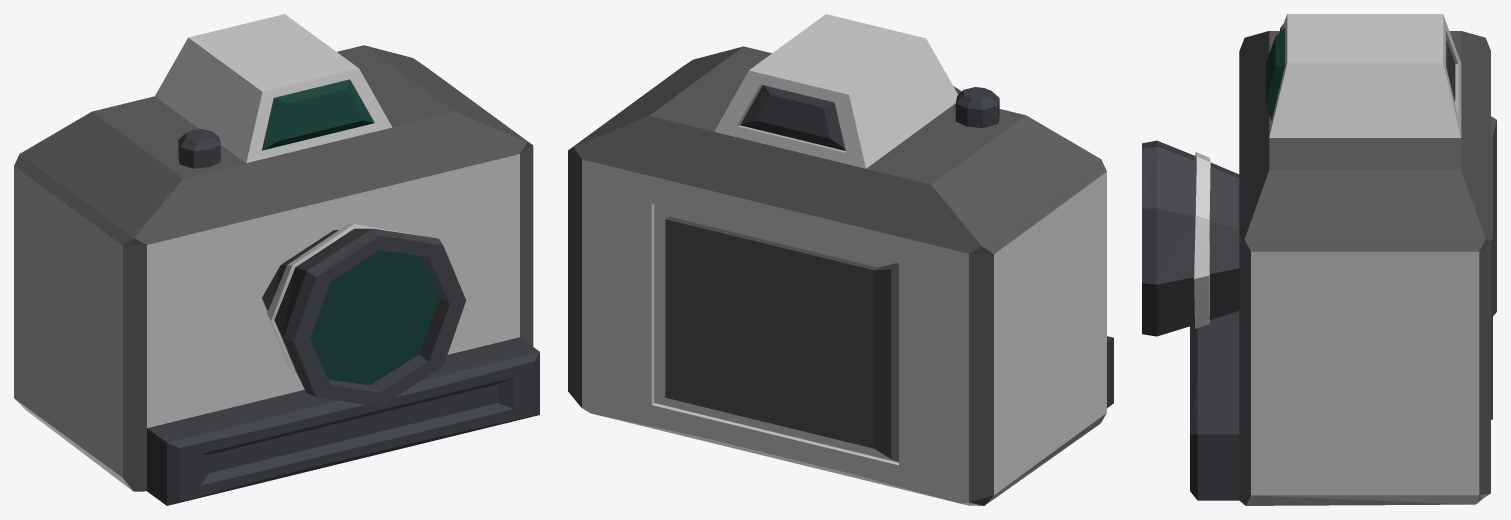
File: Camera Colores.fbx
3 renders of one model, left to right at view 1: azimuth 30°, elevation 25°; view 2: azimuth 150°, elevation 25°; view 3: azimuth 270°, elevation 25°, orthographic. The views are drawn at different scales.
Parts seen in each view (by area): view 1: Box001; view 2: Box001; view 3: Box001.
Boxes of the visible parts, box(x1,y1,x2,y2) form: Box001: box(14, 14, 539, 505); Box001: box(568, 14, 1113, 505); Box001: box(1142, 14, 1496, 505).
Bounding box in the file's own units: 452 × 367 × 323.
